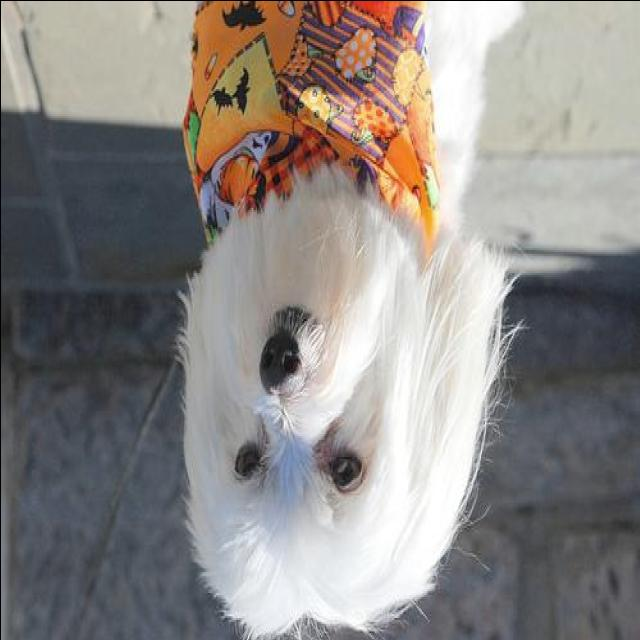maltese_dog: (170, 2, 524, 640)
